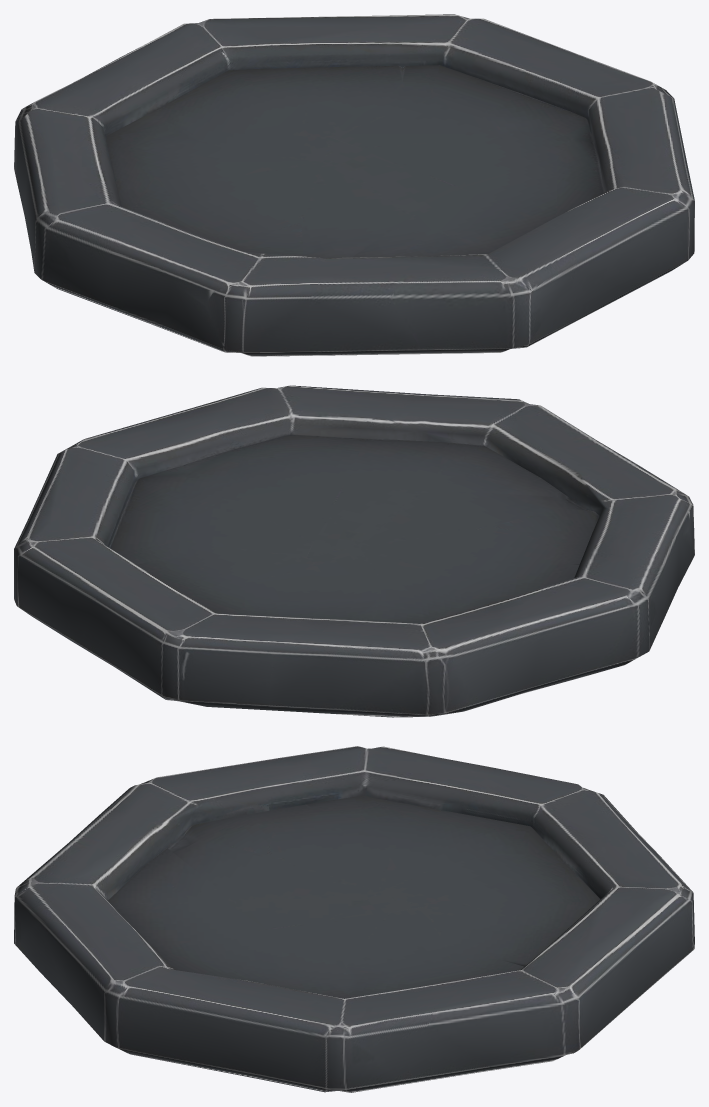
Rendered from Octagone.fbx.
The picture shows the model from 3 angles, top to bottom: view 1: azimuth 30°, elevation 25°; view 2: azimuth 150°, elevation 25°; view 3: azimuth 270°, elevation 25°; orthographic projection. The views are drawn at different scales.
Visible parts, largest first — view 1: tripo_node_79f4eb9f; view 2: tripo_node_79f4eb9f; view 3: tripo_node_79f4eb9f.
Boxes of the visible parts, left/top/right/bottom form: tripo_node_79f4eb9f: left=14, top=14, right=694, bottom=356; tripo_node_79f4eb9f: left=14, top=385, right=694, bottom=717; tripo_node_79f4eb9f: left=14, top=746, right=694, bottom=1092.
Size of the model in its own units: 97.95 by 97.8 by 11.75.
Materials: 1 (1 with a texture image).
